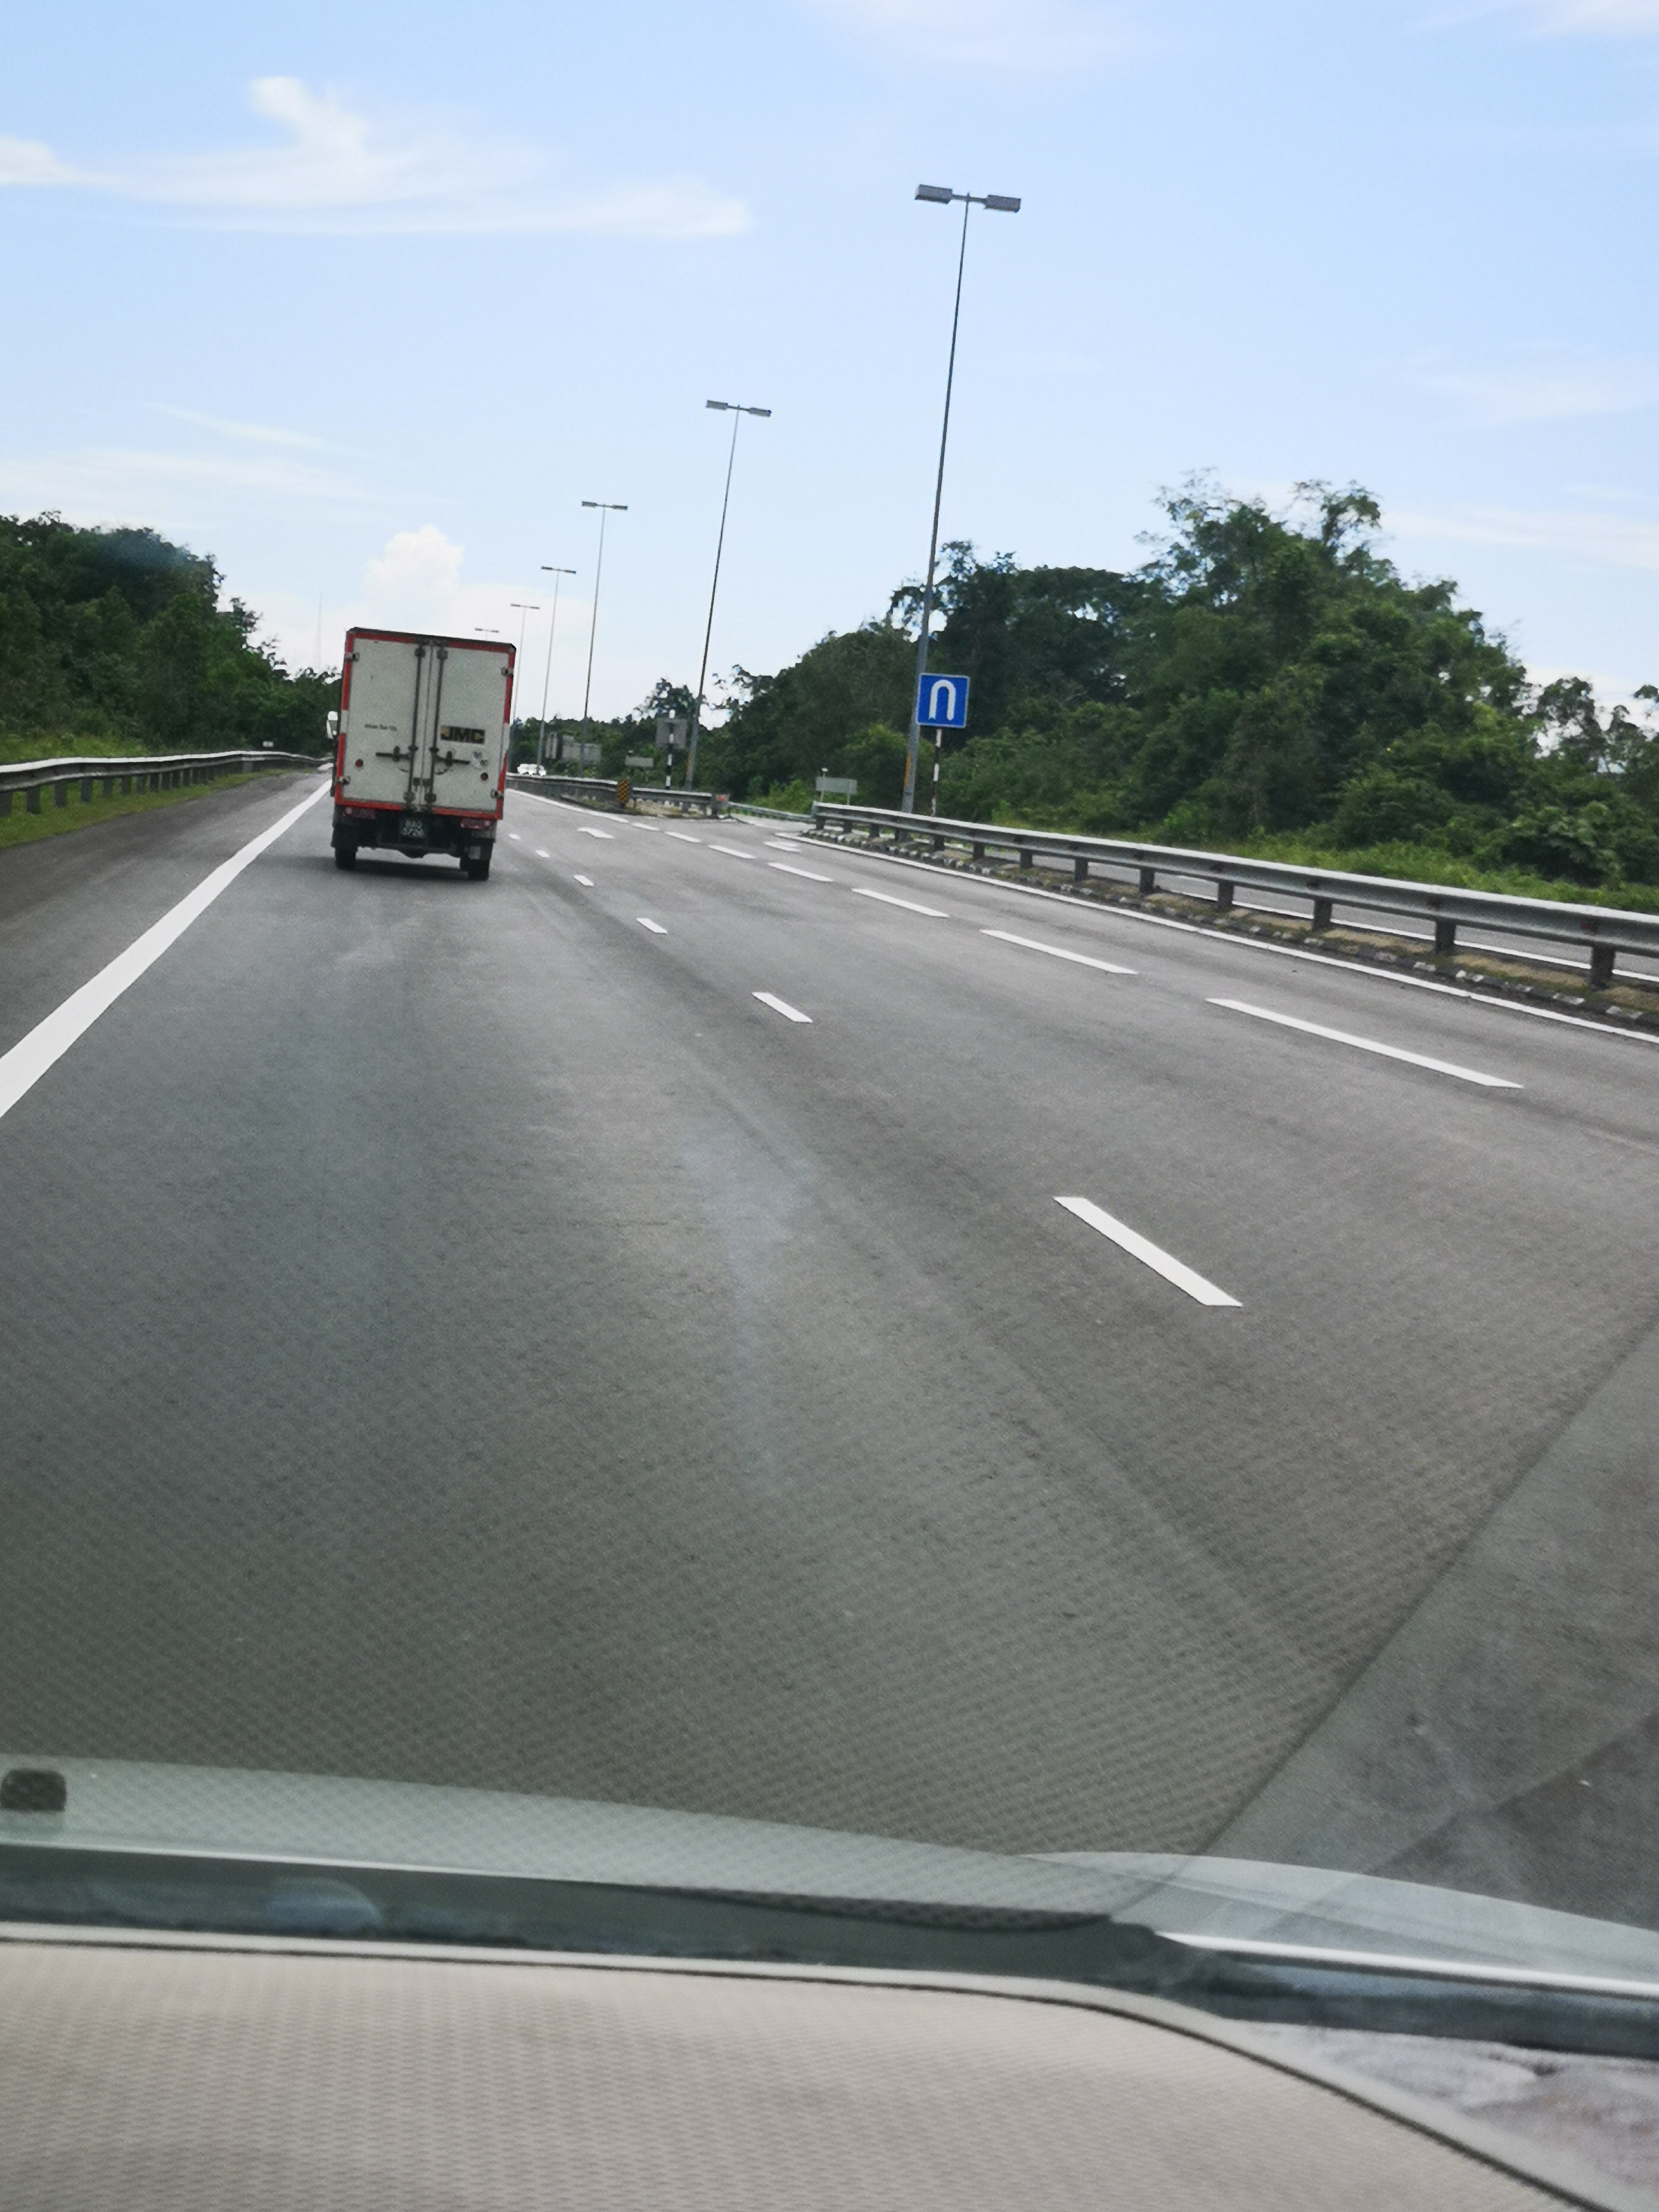U-turn: (910, 669, 974, 733)
